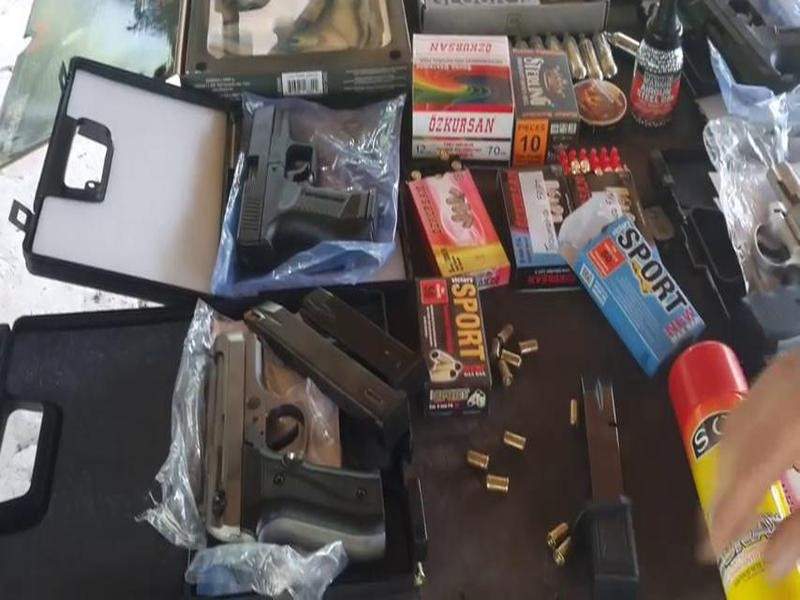Pistola: (167, 310, 407, 582), (230, 81, 394, 294)
